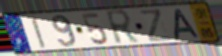5: (80, 11, 110, 47)
9: (51, 14, 78, 48)
A: (173, 8, 202, 41)
I: (30, 15, 48, 50)
R: (103, 8, 141, 47)
Z: (138, 8, 174, 43)
